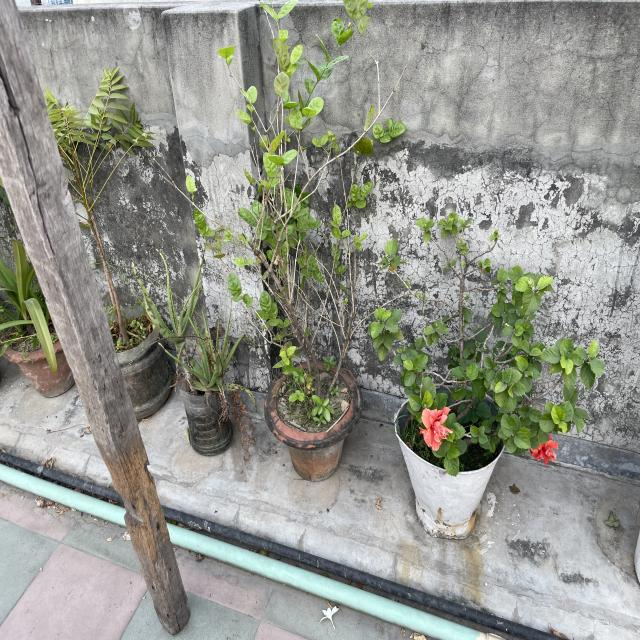Breeding Place: (395, 390, 509, 550), (265, 360, 362, 480), (104, 314, 173, 416), (182, 353, 236, 451), (9, 326, 67, 399)
